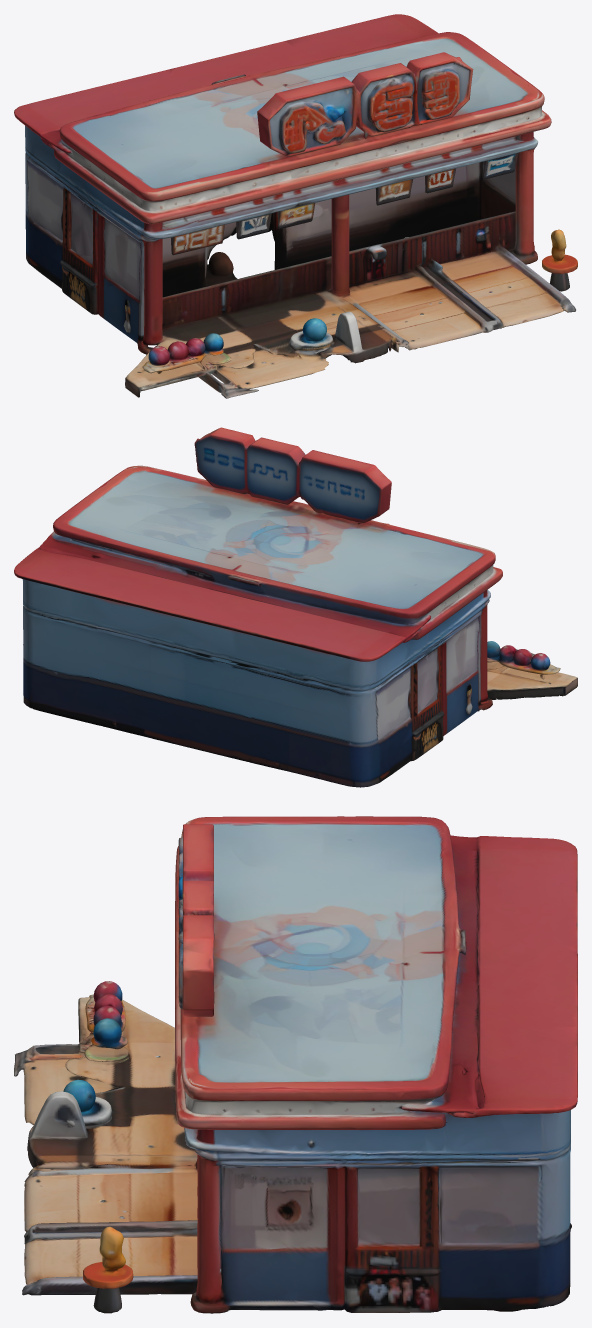
The model's file is building-bowling.glb.
The picture shows the model from 3 angles, top to bottom: view 1: azimuth 30°, elevation 25°; view 2: azimuth 150°, elevation 25°; view 3: azimuth 270°, elevation 25°; orthographic projection. The views are drawn at different scales.
Parts seen in each view (by area): view 1: tripo_node_26457b2e-0c71-4c2c-b09b-09775537efc6; view 2: tripo_node_26457b2e-0c71-4c2c-b09b-09775537efc6; view 3: tripo_node_26457b2e-0c71-4c2c-b09b-09775537efc6.
Part boxes in pixels (x1=…): tripo_node_26457b2e-0c71-4c2c-b09b-09775537efc6: x1=14, y1=14, x2=577, y2=398; tripo_node_26457b2e-0c71-4c2c-b09b-09775537efc6: x1=14, y1=427, x2=577, y2=787; tripo_node_26457b2e-0c71-4c2c-b09b-09775537efc6: x1=14, y1=816, x2=577, y2=1313.
Bounding box in the file's own units: 14.4 × 7 × 11.16.
1 material, 1 textured.
